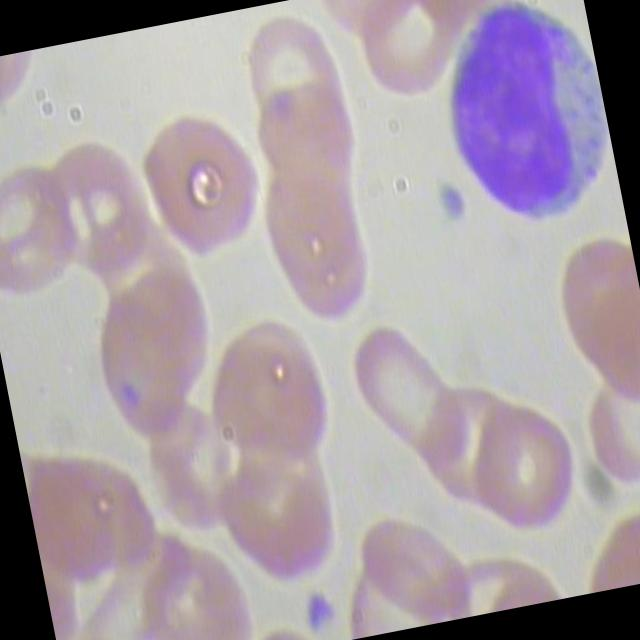Platelets: (296, 578, 339, 640), (427, 172, 474, 228)
RBC: (336, 297, 481, 488), (185, 304, 338, 476), (126, 105, 274, 275), (35, 127, 166, 296), (210, 438, 346, 593), (462, 394, 590, 548), (410, 374, 538, 528), (246, 76, 367, 215), (233, 11, 354, 149), (352, 505, 479, 636), (256, 160, 372, 298), (0, 156, 93, 311), (346, 0, 467, 111), (133, 535, 260, 640)
WBC: (424, 0, 626, 253)
